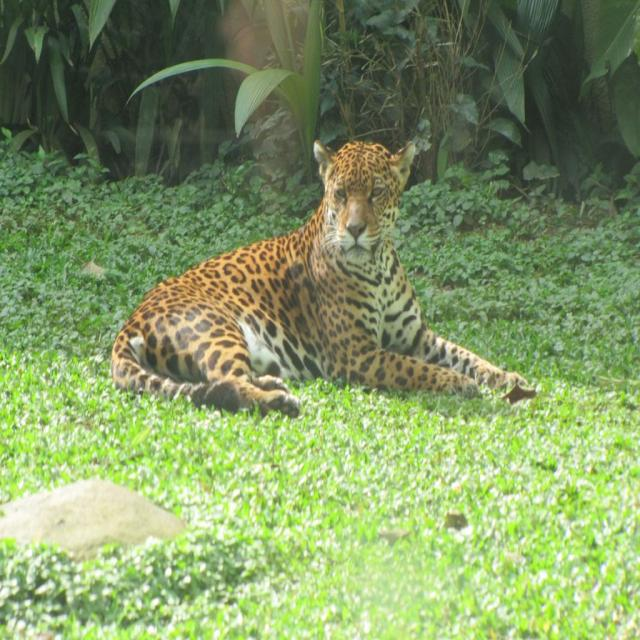Cheetah: (101, 128, 537, 421)
